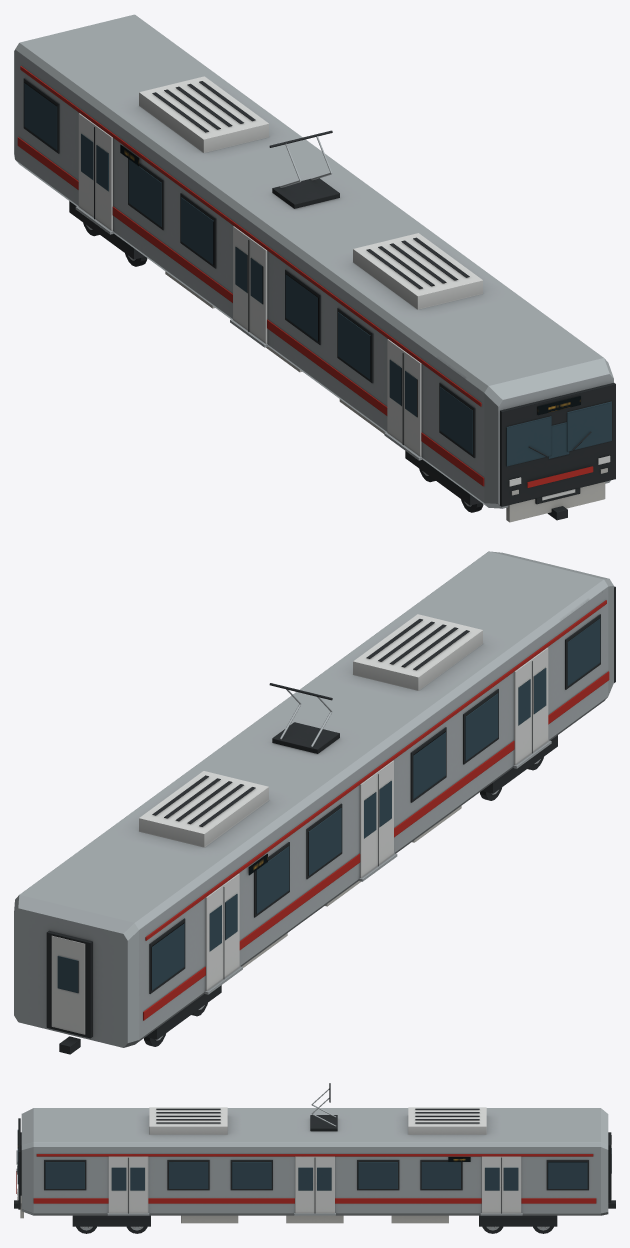
The model's file is regional_cab.obj.
The picture shows the model from 3 angles, top to bottom: view 1: azimuth 30°, elevation 25°; view 2: azimuth 150°, elevation 25°; view 3: azimuth 270°, elevation 25°; orthographic projection. The views are drawn at different scales.
Visible parts, largest first — view 1: regional_cab; view 2: regional_cab; view 3: regional_cab.
Part boxes in pixels (x1,y1,x2,y2): regional_cab: (14,14,615,522); regional_cab: (14,551,615,1054); regional_cab: (14,1083,615,1233).
Bounding box in the file's own units: 3.08 × 4.83 × 20.
1 material, 1 textured.
